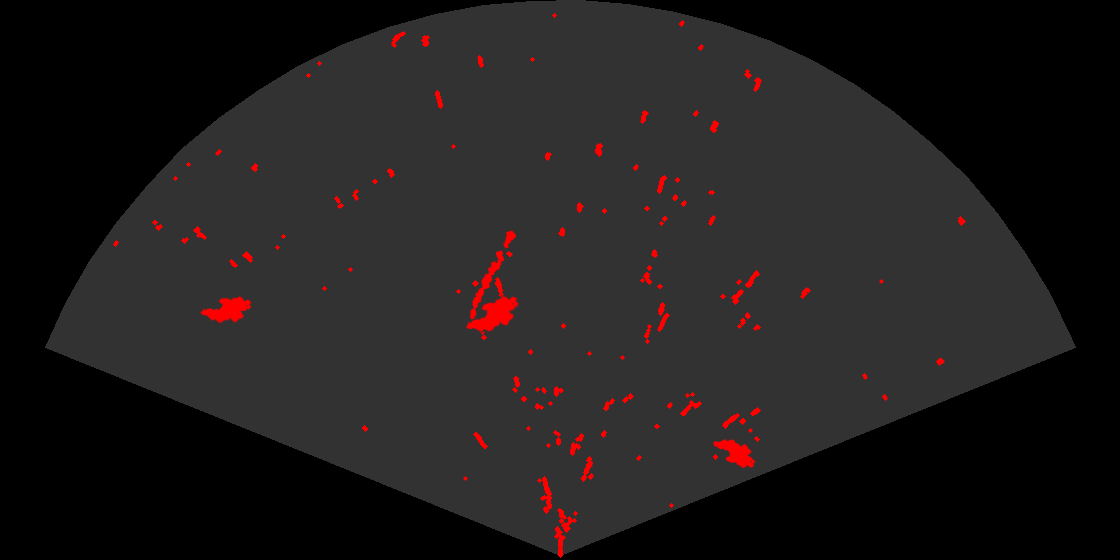AUV: (464, 294, 521, 334), (199, 295, 253, 324), (712, 438, 757, 470)
chain: (468, 229, 518, 321)
